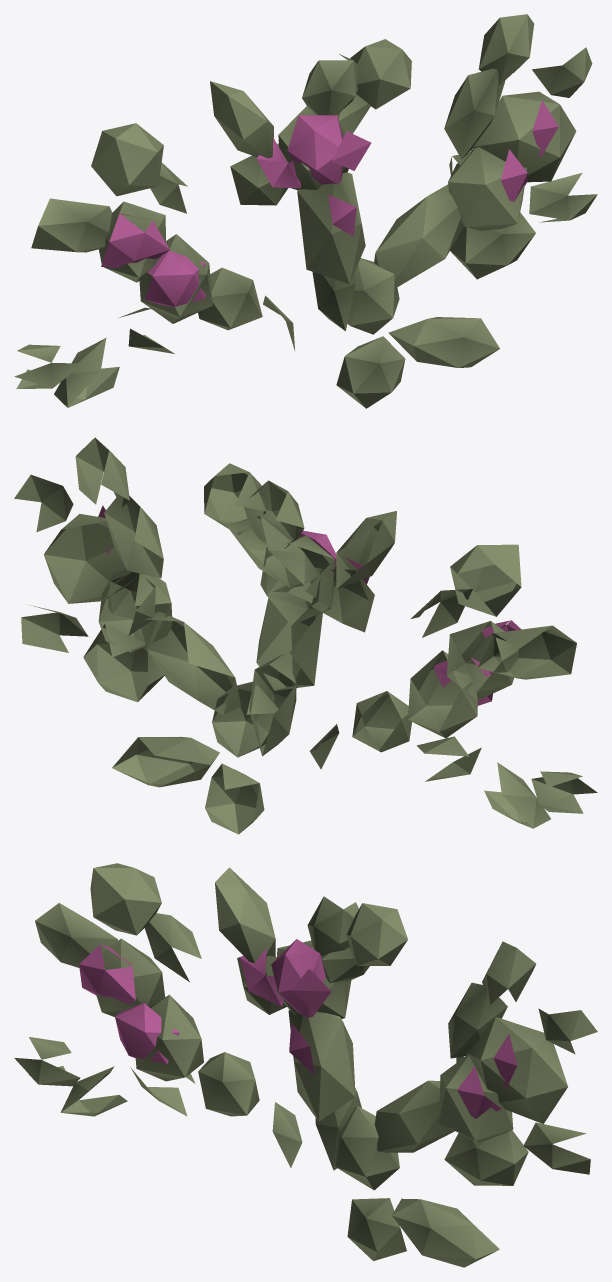
File: bougain.lod.glb
3 renders of one model, top to bottom at view 1: azimuth 30°, elevation 25°; view 2: azimuth 150°, elevation 25°; view 3: azimuth 330°, elevation 25°, orthographic. The views are drawn at different scales.
Parts seen in each view (by area): view 1: bougain; view 2: bougain; view 3: bougain.
Boxes of the visible parts, left/top/right/bottom form: bougain: left=14, top=14, right=597, bottom=408; bougain: left=14, top=437, right=597, bottom=834; bougain: left=14, top=863, right=597, bottom=1267.
Size of the model in its own units: 3.65 by 2.18 by 0.4558.
